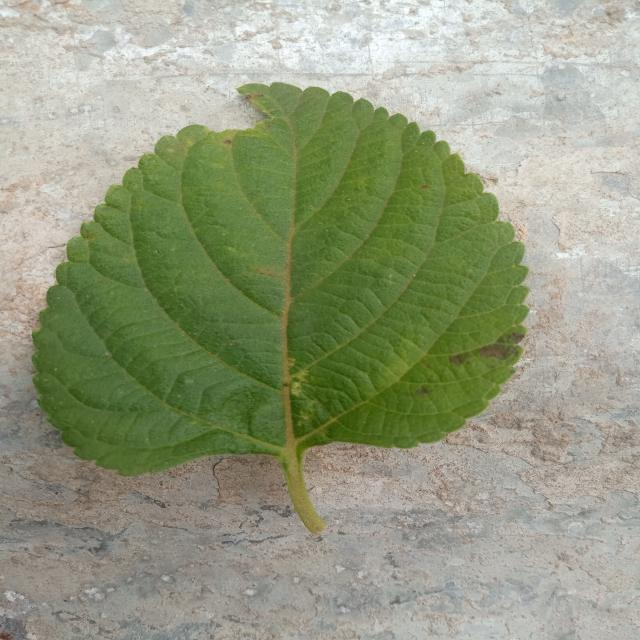Lantana: (33, 82, 528, 534)
